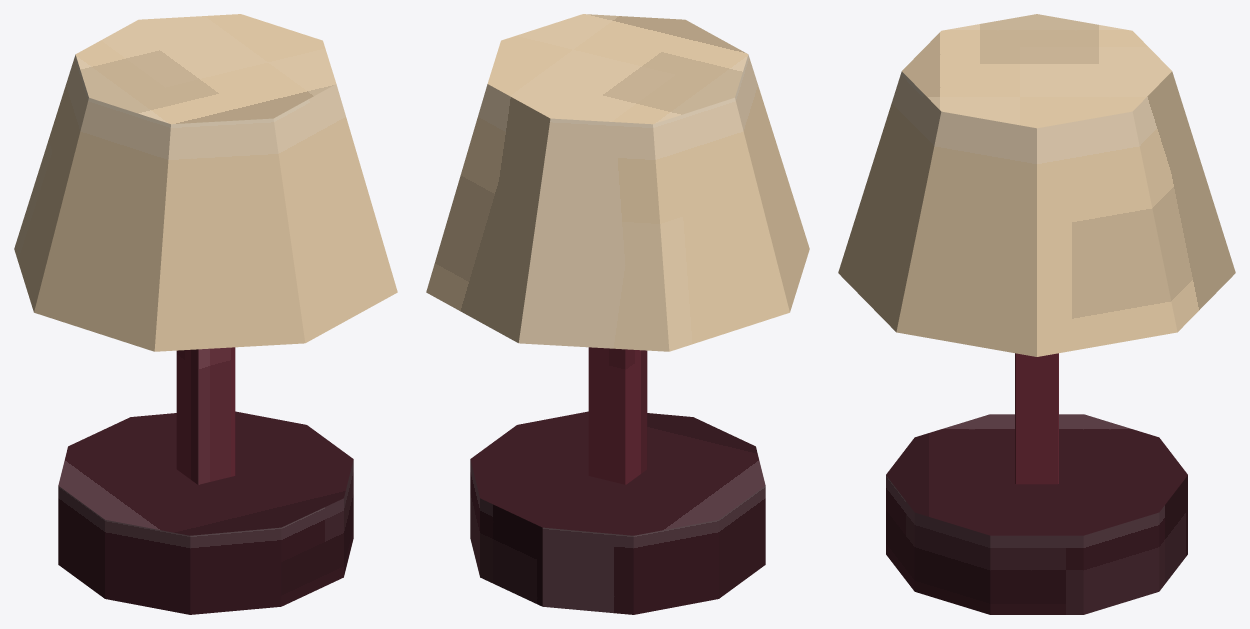
Rendered from table_lamp_burgundy.glb.
3 views of the same model, side by side, from view 1: azimuth 30°, elevation 25°; view 2: azimuth 150°, elevation 25°; view 3: azimuth 270°, elevation 25° (orthographic).
Parts seen in each view (by area): view 1: TableShade, TableLampBase, TableLampStem; view 2: TableShade, TableLampBase, TableLampStem; view 3: TableShade, TableLampBase, TableLampStem.
Part boxes in pixels (box(x1,y1,x2,y2)): TableShade: box(14, 14, 397, 351); TableLampBase: box(58, 411, 353, 614); TableLampStem: box(176, 347, 235, 484); TableShade: box(426, 14, 809, 351); TableLampBase: box(470, 411, 765, 614); TableLampStem: box(588, 347, 647, 484); TableShade: box(838, 14, 1235, 356); TableLampBase: box(886, 414, 1187, 614); TableLampStem: box(1015, 353, 1058, 484).
Size of the model in its own units: 0.5 by 0.67 by 0.5.
Materials: 1 (1 with a texture image).
